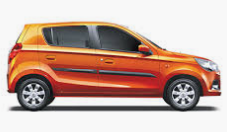car: (5, 20, 223, 114)
